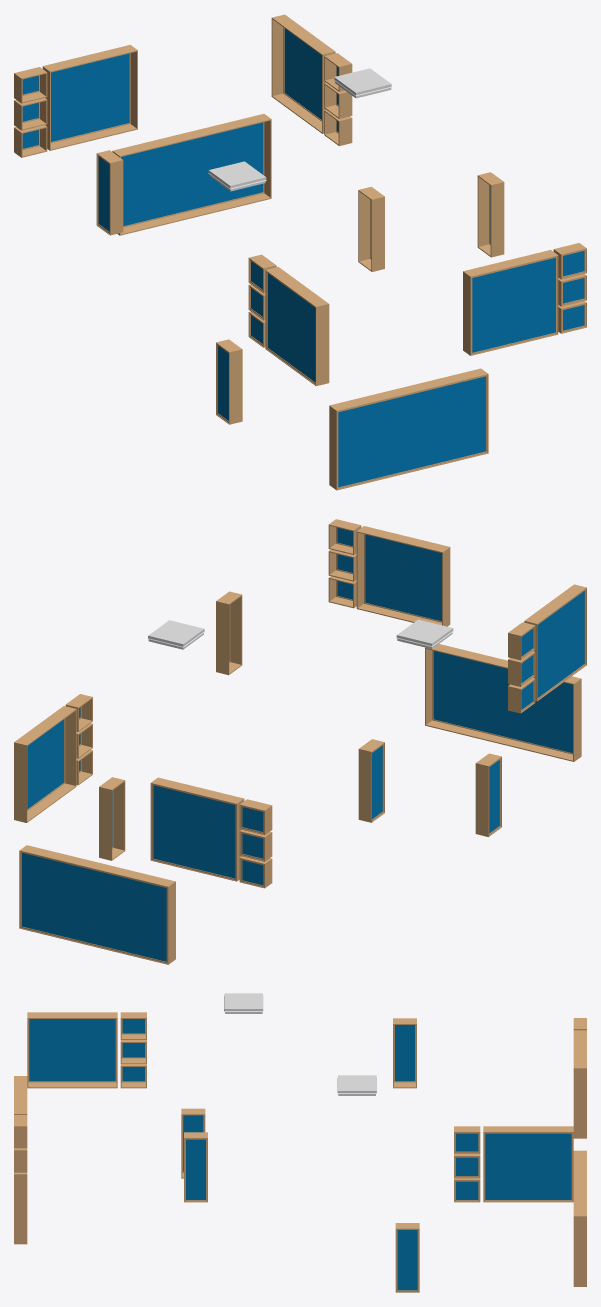
File: IfcWindow.fbx
The picture shows the model from 3 angles, top to bottom: view 1: azimuth 30°, elevation 25°; view 2: azimuth 150°, elevation 25°; view 3: azimuth 270°, elevation 25°; orthographic projection. The views are drawn at different scales.
Parts seen in each view (by area): view 1: M_Fixed:146016 (×4), M_Fixed:145788 (×2), M_Fixed:149278 (×4), M_Fixed:147686 (×2), M_Fixed:180318 (×3), M_Fixed:181096 (×2), M_Fixed:181930, M_Fixed:146885, M_Fixed:182101 (×2), M_Fixed:147051 (×2), M_Skylight:185337, M_Skylight:185718 (+6 smaller); view 2: M_Fixed:145788 (×4), M_Fixed:146016 (×2), M_Fixed:147686 (×4), M_Fixed:149278 (×2), M_Fixed:181096 (×2), M_Fixed:180318 (×2), M_Fixed:181930, M_Fixed:146885, M_Fixed:147051 (×2), M_Fixed:182101 (×2), M_Skylight:185718, M_Skylight:185337 (+2 smaller); view 3: M_Fixed:181096 (×4), M_Fixed:180318 (×3), M_Fixed:145788, M_Fixed:182101 (×2), M_Fixed:147686, M_Fixed:146885, M_Fixed:181930, M_Skylight:185718, M_Skylight:185337, M_Fixed:146016, M_Fixed:149278, M_Casement:181548 (+4 smaller).
Part boxes in pixels (bbox=[...]): M_Fixed:146016 (×4): bbox=[329, 368, 488, 490]; M_Fixed:145788 (×2): bbox=[113, 114, 271, 235]; M_Fixed:149278 (×4): bbox=[463, 250, 558, 355]; M_Fixed:147686 (×2): bbox=[43, 45, 137, 150]; M_Fixed:180318 (×3): bbox=[265, 266, 329, 386]; M_Fixed:181096 (×2): bbox=[271, 15, 333, 133]; M_Fixed:181930: bbox=[477, 172, 502, 257]; M_Fixed:146885: bbox=[358, 187, 382, 271]; M_Fixed:182101 (×2): bbox=[98, 150, 123, 234]; M_Fixed:147051 (×2): bbox=[218, 339, 242, 424]; M_Skylight:185337: bbox=[208, 161, 266, 191]; M_Skylight:185718: bbox=[334, 68, 392, 98]; M_Fixed:145788 (×4): bbox=[19, 845, 175, 964]; M_Fixed:146016 (×2): bbox=[425, 644, 580, 761]; M_Fixed:147686 (×4): bbox=[150, 777, 244, 881]; M_Fixed:149278 (×2): bbox=[356, 527, 449, 626]; M_Fixed:181096 (×2): bbox=[16, 706, 76, 822]; M_Fixed:180318 (×2): bbox=[524, 584, 584, 697]; M_Fixed:181930: bbox=[218, 592, 242, 675]; M_Fixed:146885: bbox=[101, 777, 125, 860]; M_Fixed:147051 (×2): bbox=[475, 753, 499, 836]; M_Fixed:182101 (×2): bbox=[358, 739, 382, 822]; M_Skylight:185718: bbox=[147, 620, 204, 649]; M_Skylight:185337: bbox=[396, 619, 453, 648]; M_Fixed:181096 (×4): bbox=[483, 1126, 573, 1202]; M_Fixed:180318 (×3): bbox=[27, 1013, 117, 1088]; M_Fixed:145788: bbox=[573, 1150, 584, 1286]; M_Fixed:182101 (×2): bbox=[393, 1019, 416, 1088]; M_Fixed:147686: bbox=[573, 1030, 584, 1138]; M_Fixed:146885: bbox=[397, 1230, 417, 1290]; M_Fixed:181930: bbox=[186, 1139, 205, 1199]; M_Skylight:185718: bbox=[337, 1075, 376, 1095]; M_Skylight:185337: bbox=[224, 993, 263, 1013]; M_Fixed:146016: bbox=[16, 1196, 27, 1244]; M_Fixed:149278: bbox=[16, 1076, 27, 1114]; M_Casement:181548: bbox=[456, 1157, 478, 1175].
Bounding box in the file's own units: 8.8 × 17.8 × 6.53.
